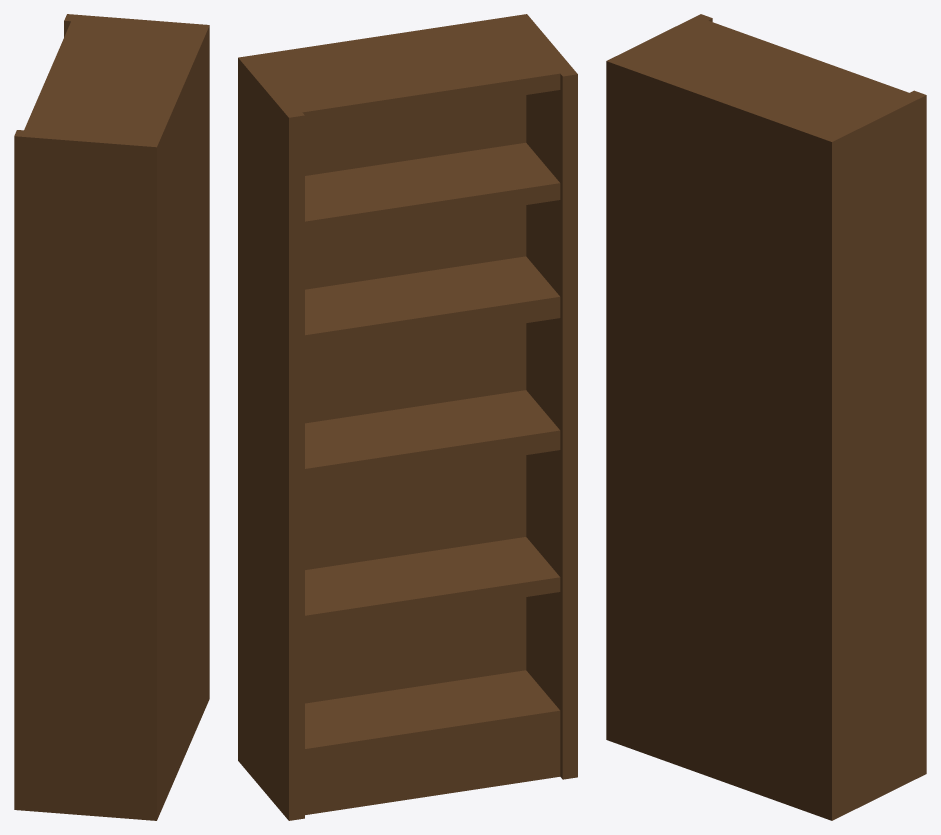
Rendered from book_case_2.fbx.
3 renders of one model, left to right at view 1: azimuth 30°, elevation 25°; view 2: azimuth 150°, elevation 25°; view 3: azimuth 270°, elevation 25°, orthographic. The views are drawn at different scales.
Parts seen in each view (by area): view 1: book_case; view 2: book_case; view 3: book_case.
Part boxes in pixels (left/top/right/bottom): book_case: left=14, top=14, right=209, bottom=820; book_case: left=238, top=14, right=577, bottom=820; book_case: left=606, top=14, right=926, bottom=820.
Size of the model in its own units: 15.27 by 37.7 by 16.13.
